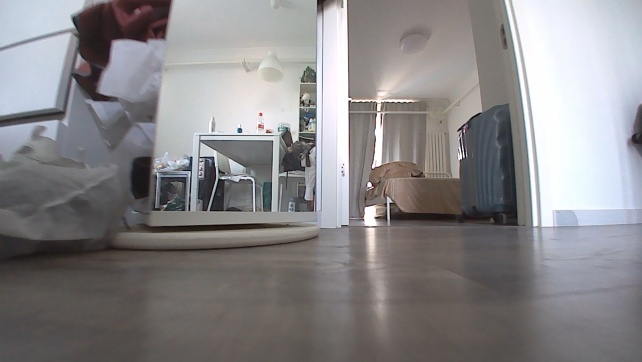bed: (362, 158, 466, 224)
